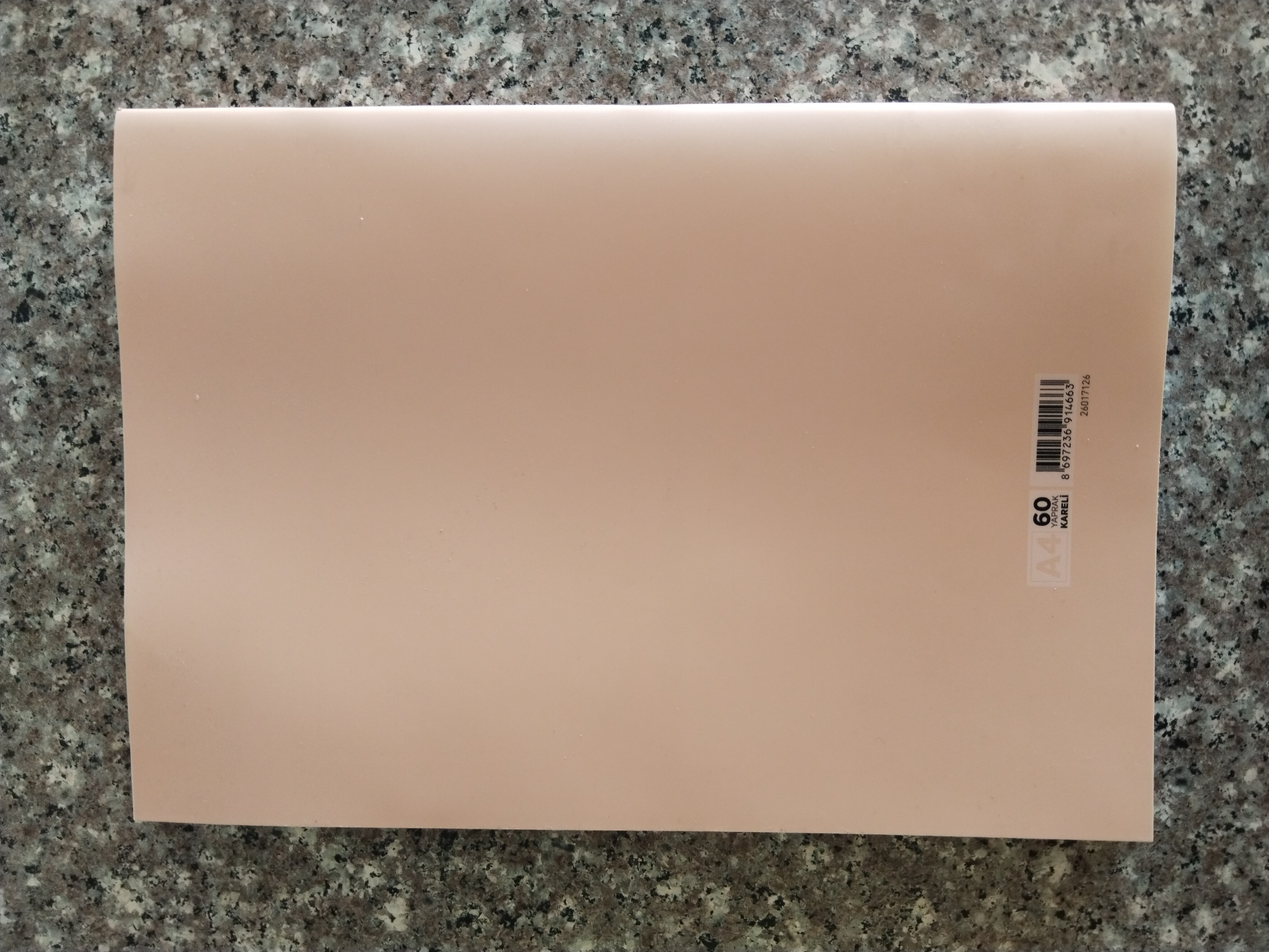60_sayfa_gipta_defter: (116, 104, 1168, 831)
